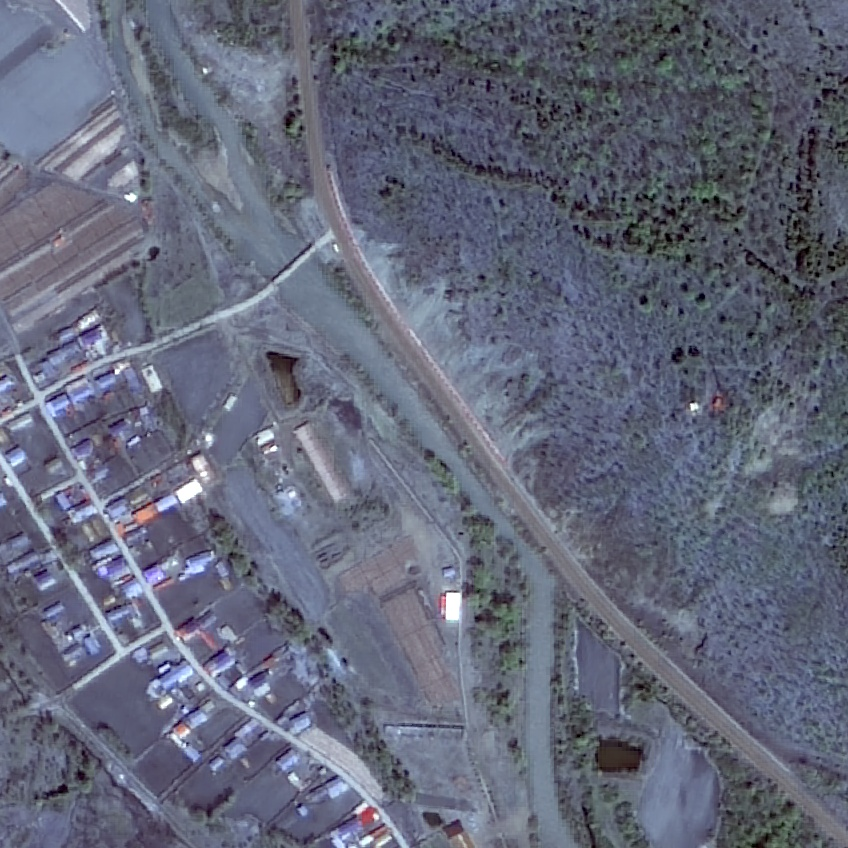slope: (352, 221, 554, 494)
